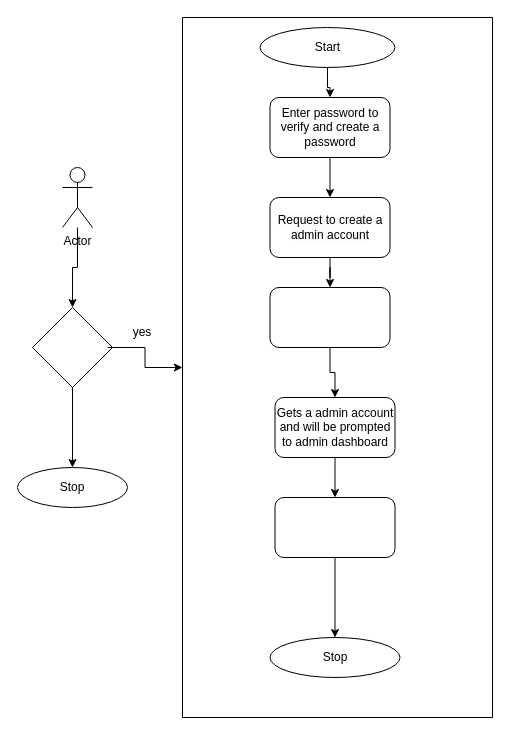
The diagram is 510 pixels wide and 735 high, and some of its shapes have lost their labels. The centre of each missing label's shape, as x and y in pixels:
He is now a admin who has just created a website: (x=334, y=527)
isUser?: (x=72, y=347)
Requests to create a website: (x=329, y=317)
